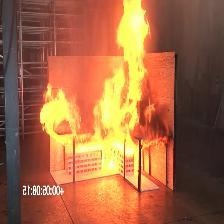fire: (40, 2, 172, 186)
